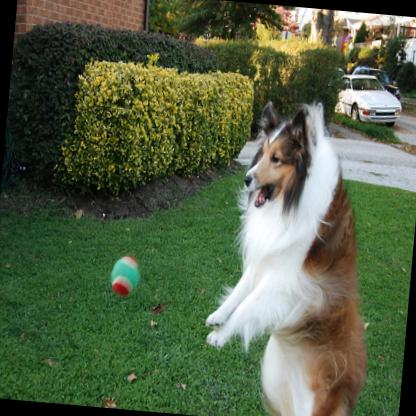Shetland_sheepdog: (191, 83, 392, 416)
